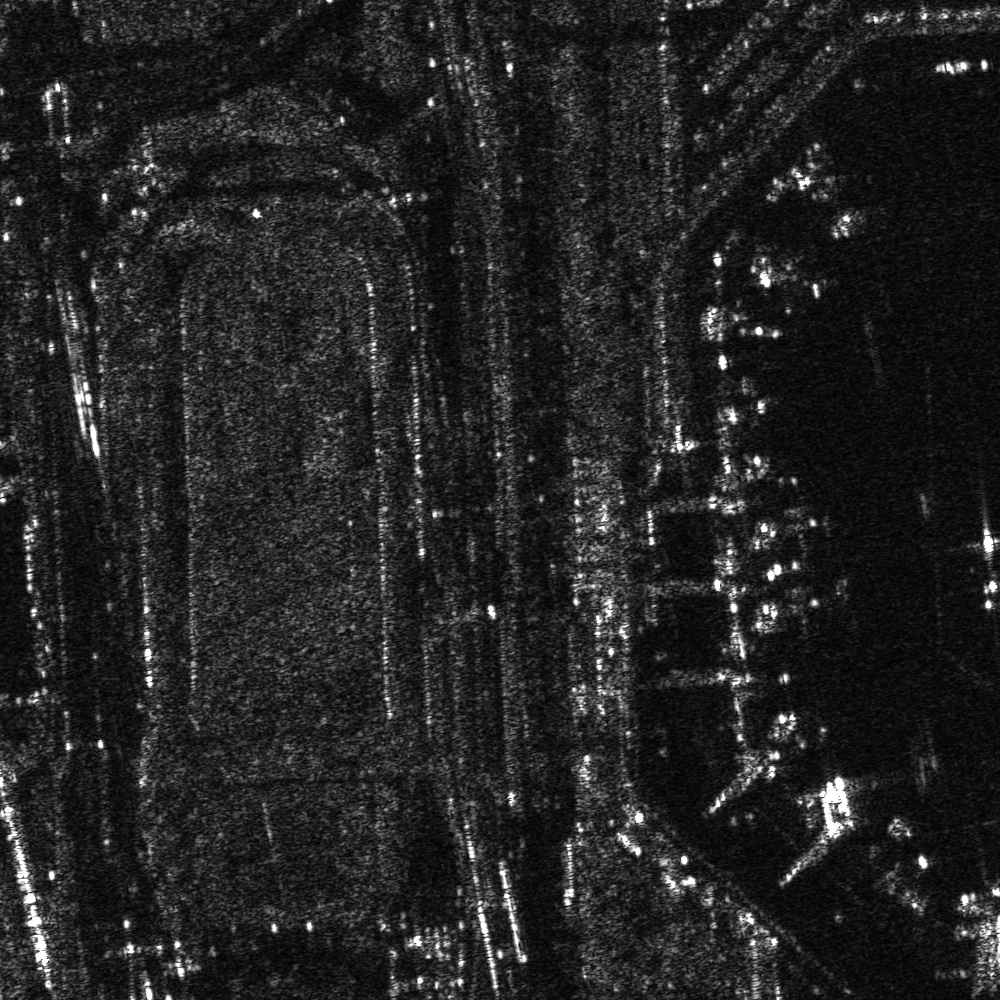A220: (793, 163, 884, 245), (743, 244, 840, 320), (754, 485, 844, 565), (760, 573, 862, 643)
Boeing737: (966, 525, 999, 617)
